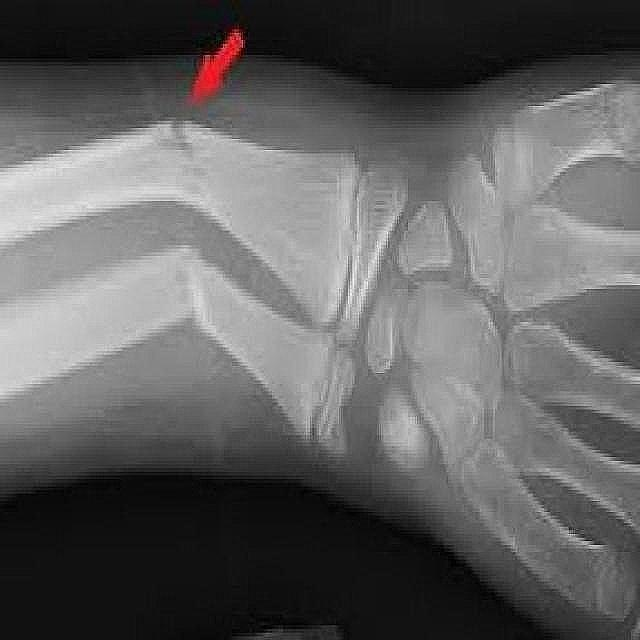bone: (133, 102, 216, 216), (150, 232, 220, 341)
